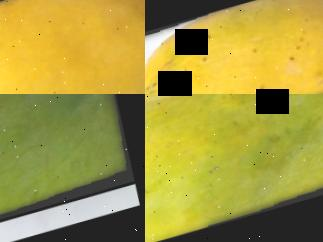PartiallyRipe: (145, 94, 323, 242)
Ripe: (145, 0, 323, 94), (0, 0, 145, 94)
Unripe: (0, 94, 142, 242)
